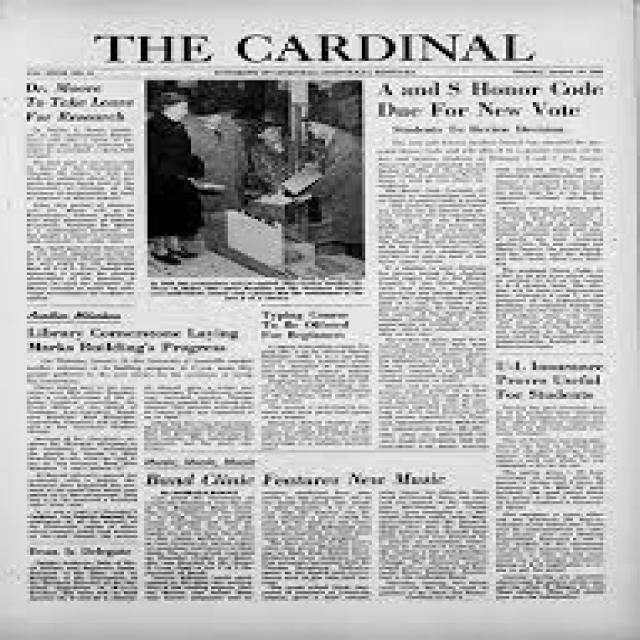paper: (14, 6, 634, 605)
